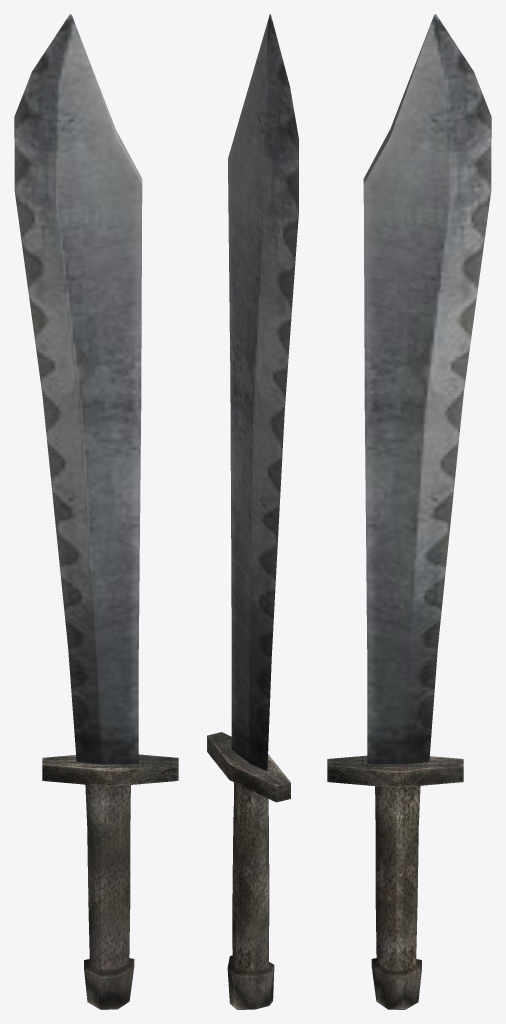
File: weapons_sword08.glb
3 renders of one model, left to right at view 1: azimuth 90°, elevation 25°; view 2: azimuth 210°, elevation 25°; view 3: azimuth 270°, elevation 25°, orthographic.
Visible parts, largest first — view 1: sword08; view 2: sword08; view 3: sword08.
Part boxes in pixels (x1,y1,x2,y2): sword08: [14, 14, 178, 1009]; sword08: [207, 14, 298, 1009]; sword08: [327, 14, 491, 1009].
Size of the model in its own units: 0.0404 by 0.9566 by 0.144.
Materials: 1 (1 with a texture image).
